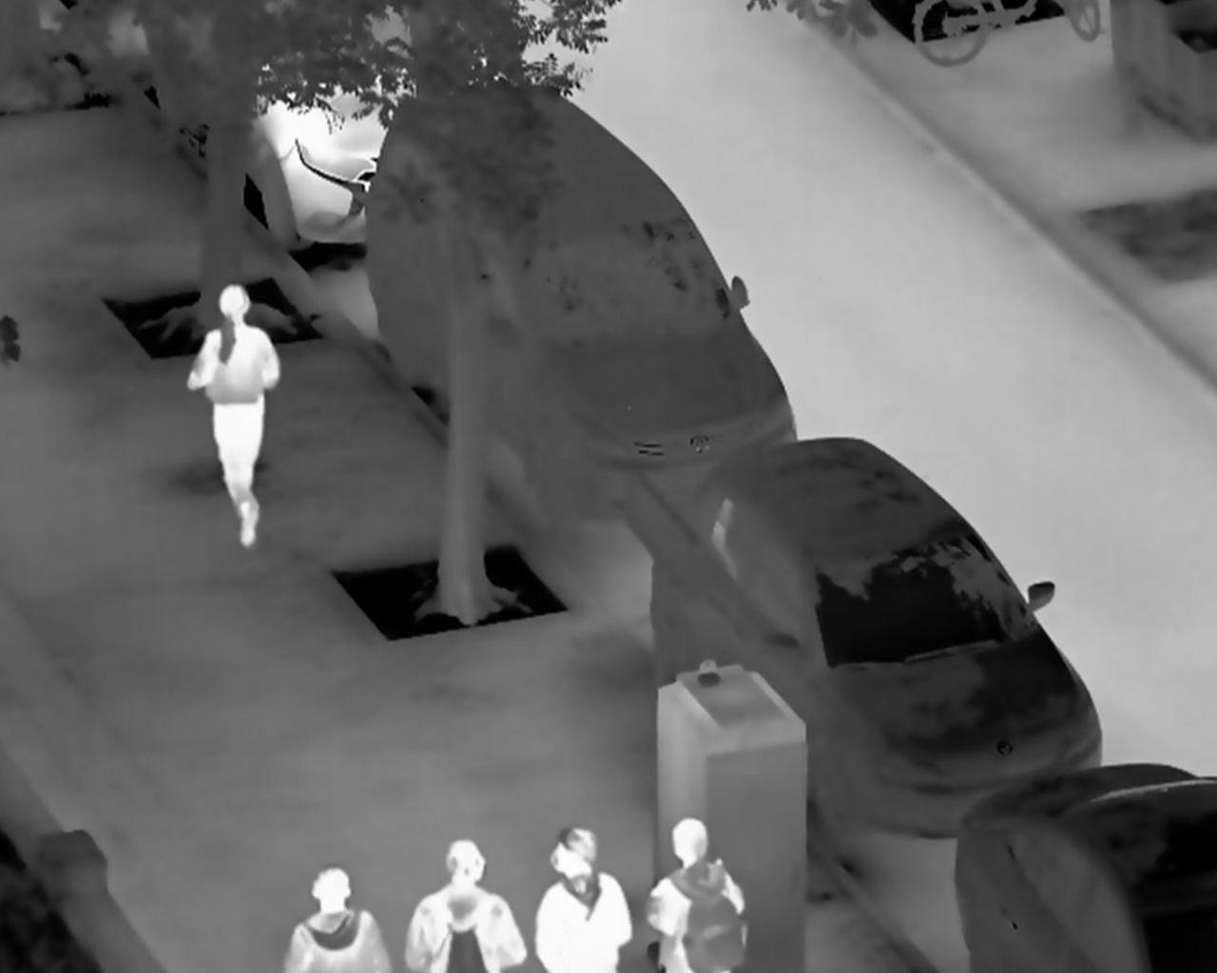person: (184, 284, 280, 549), (398, 835, 530, 973), (647, 815, 748, 973), (534, 828, 636, 973)
